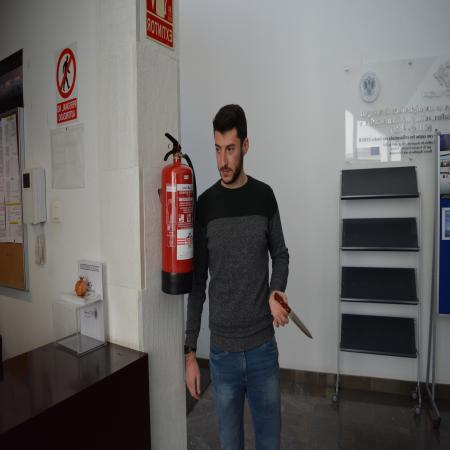long weapon: (274, 291, 316, 341)
